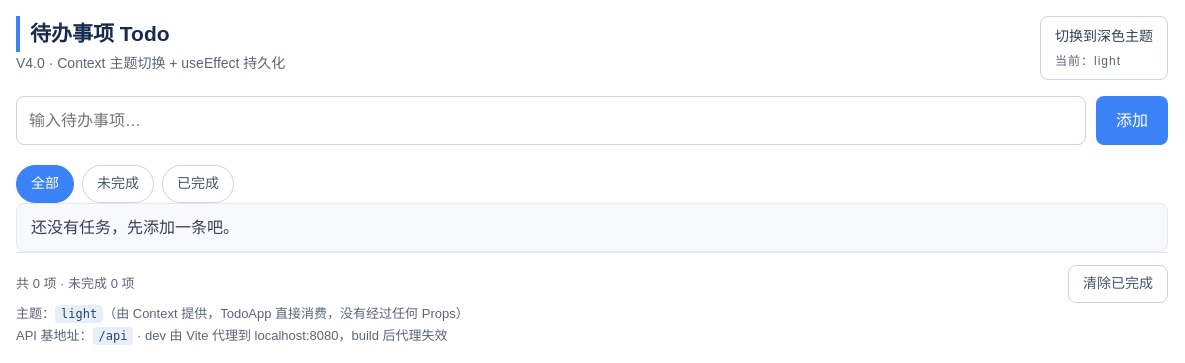
Scenario: 行为3：勾选 checkbox 切换完成状态，done 类由 State 决定
In the field named "待办事项内容": x=551, y=121 x1=16 y1=96 x2=1086 y2=145, type "任务A"
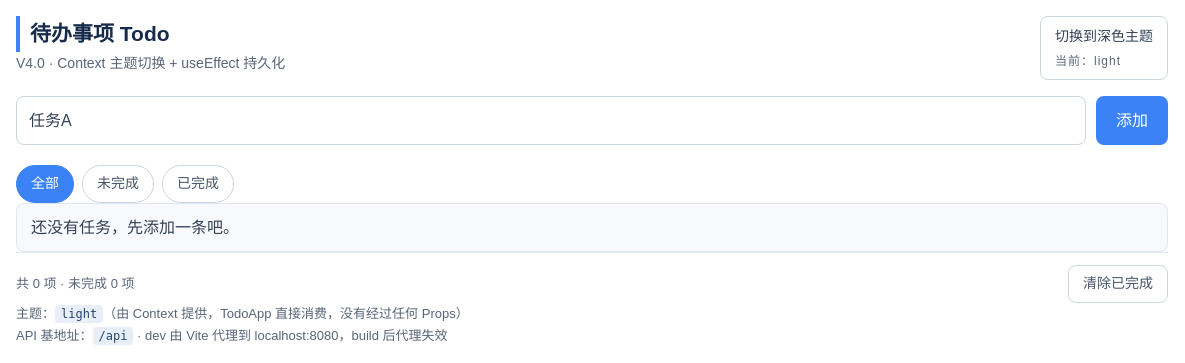
Click the button "添加": x=1132, y=121 x1=1096 y1=96 x2=1168 y2=145
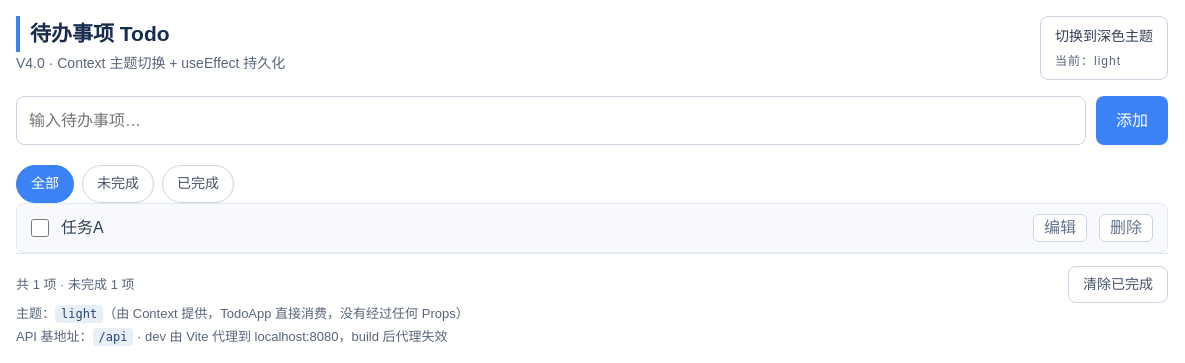
Click the checkbox labelled "任务A": x=40, y=228 x1=31 y1=219 x2=49 y2=237
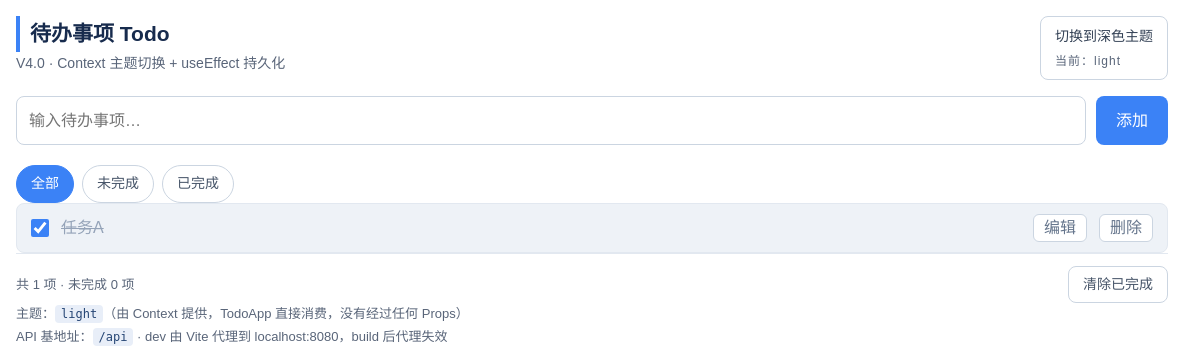
Check: the text "共 1 项 · 未完成 0 项" is shown, box x1=16 y1=274 x2=134 y2=296
